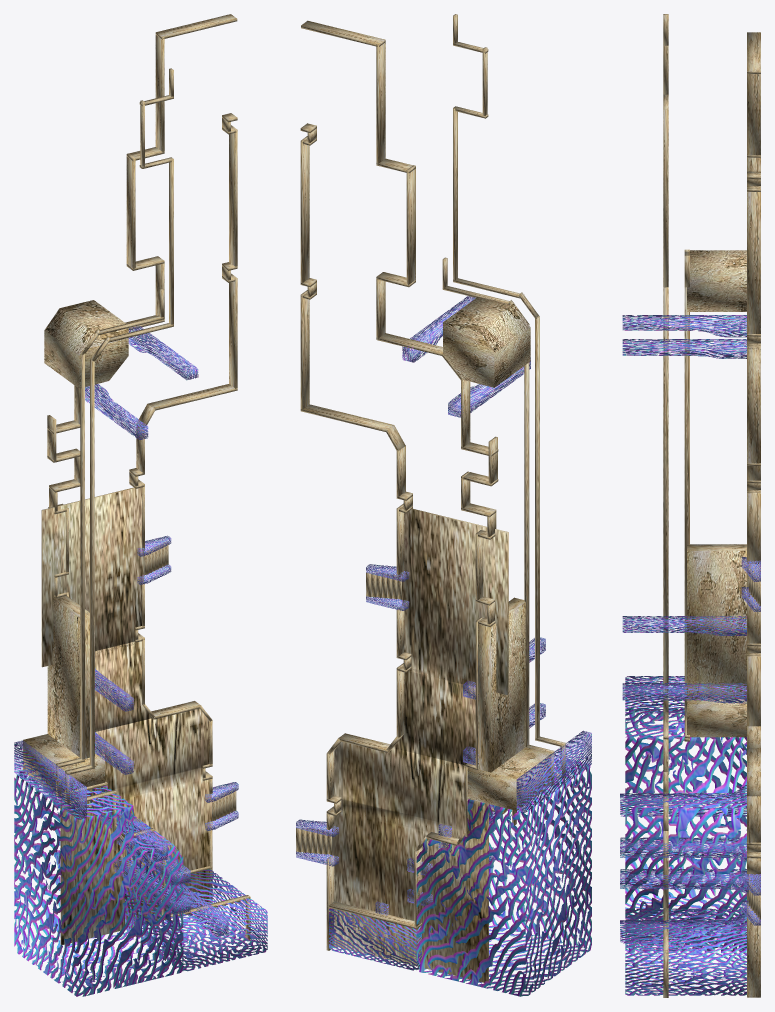
File: TestBox2.obj
3 renders of one model, left to right at view 1: azimuth 30°, elevation 25°; view 2: azimuth 150°, elevation 25°; view 3: azimuth 270°, elevation 25°, orthographic. The views are drawn at different scales.
Parts seen in each view (by area): view 1: Box06, Rectangle08, Line09, Box05, Rectangle10, Line20, Line04, Box07, Rectangle09, Box25, Box44, Line21 (+14 smaller); view 2: Rectangle08, Box06, Line09, Rectangle10, Line20, Line04, Rectangle09, Box07, Box05, Box44, Box25, Box79 (+9 smaller); view 3: Box06, Rectangle10, Box05, Line20, Box25, Line05, Rectangle09, Line07, Line11, Line06, Line17, Line08 (+17 smaller).
Boxes of the visible parts, bbox=[...] form: Box06: bbox=[14, 771, 183, 996]; Rectangle08: bbox=[60, 708, 211, 944]; Line09: bbox=[41, 487, 144, 667]; Box05: bbox=[125, 869, 267, 971]; Rectangle10: bbox=[47, 595, 94, 758]; Line20: bbox=[44, 300, 128, 388]; Line04: bbox=[95, 641, 151, 731]; Box07: bbox=[14, 740, 86, 819]; Rectangle09: bbox=[23, 734, 104, 793]; Box25: bbox=[90, 359, 94, 768]; Box44: bbox=[80, 353, 84, 759]; Line21: bbox=[128, 326, 198, 380]; Rectangle08: bbox=[332, 741, 488, 982]; Box06: bbox=[416, 756, 591, 996]; Line09: bbox=[402, 508, 508, 694]; Rectangle10: bbox=[478, 597, 525, 772]; Line20: bbox=[443, 297, 530, 387]; Line04: bbox=[393, 668, 475, 765]; Rectangle09: bbox=[467, 747, 551, 810]; Box07: bbox=[516, 730, 591, 812]; Box05: bbox=[329, 908, 421, 970]; Box44: bbox=[524, 363, 529, 747]; Box25: bbox=[535, 316, 539, 739]; Box79: bbox=[300, 136, 309, 285]; Box06: bbox=[625, 708, 746, 951]; Rectangle10: bbox=[687, 544, 746, 699]; Box05: bbox=[625, 908, 746, 995]; Line20: bbox=[687, 250, 746, 311]; Box25: bbox=[663, 287, 668, 694]; Line05: bbox=[620, 912, 746, 943]; Rectangle09: bbox=[687, 699, 746, 737]; Line07: bbox=[620, 837, 746, 861]; Line11: bbox=[622, 683, 746, 703]; Line06: bbox=[620, 869, 753, 893]; Line17: bbox=[622, 339, 746, 358]; Line08: bbox=[620, 785, 746, 816].
Size of the model in its own units: 1536 by 5899 by 799.
